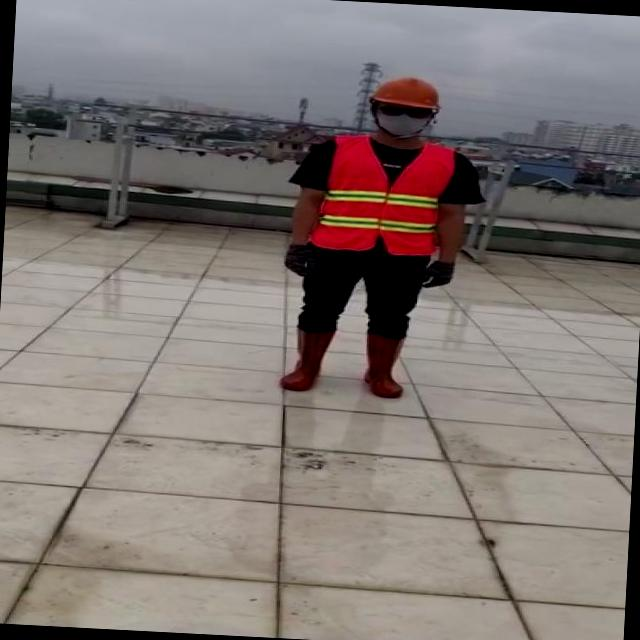boots: (278, 328, 338, 395), (355, 333, 412, 398)
helmet: (370, 74, 448, 110)
vest: (312, 132, 460, 258)
